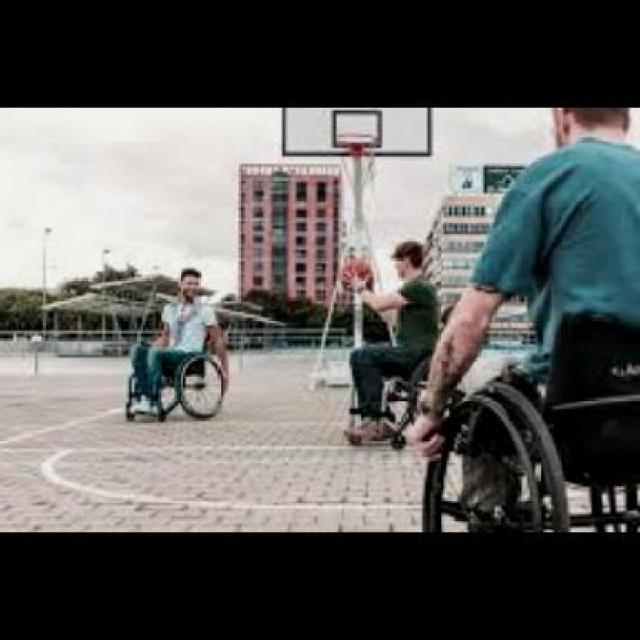wheelchairs: (412, 306, 639, 536), (126, 311, 228, 424), (334, 345, 409, 446)
